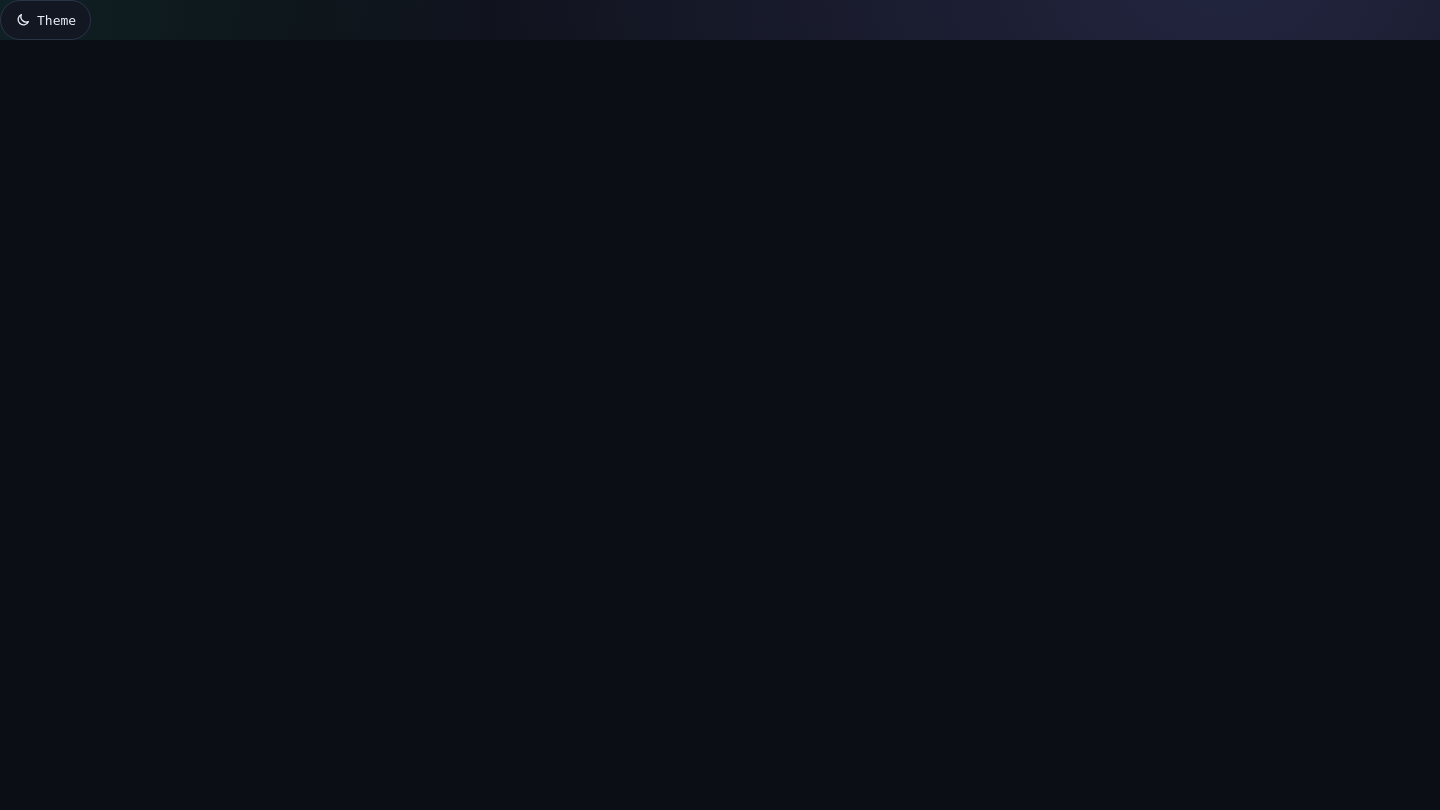
ThemeToggle › starts dark by default and switches to light, saving the choice
Step 1. Click the button with aria-label "Theme: dark" → (46, 20), box [0, 0, 91, 40]
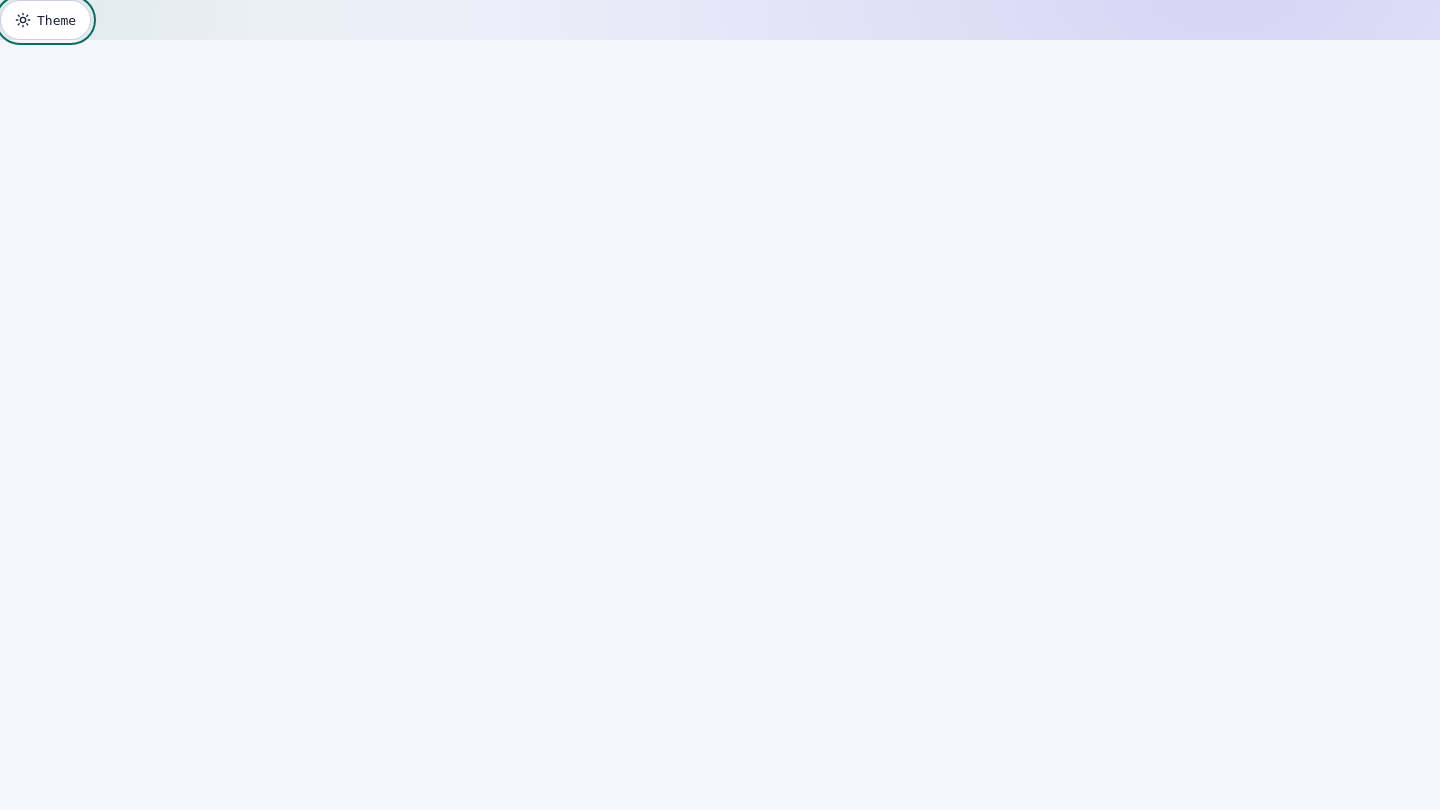
Now the button with aria-label "Theme: light" is shown, box [0, 0, 91, 40]
